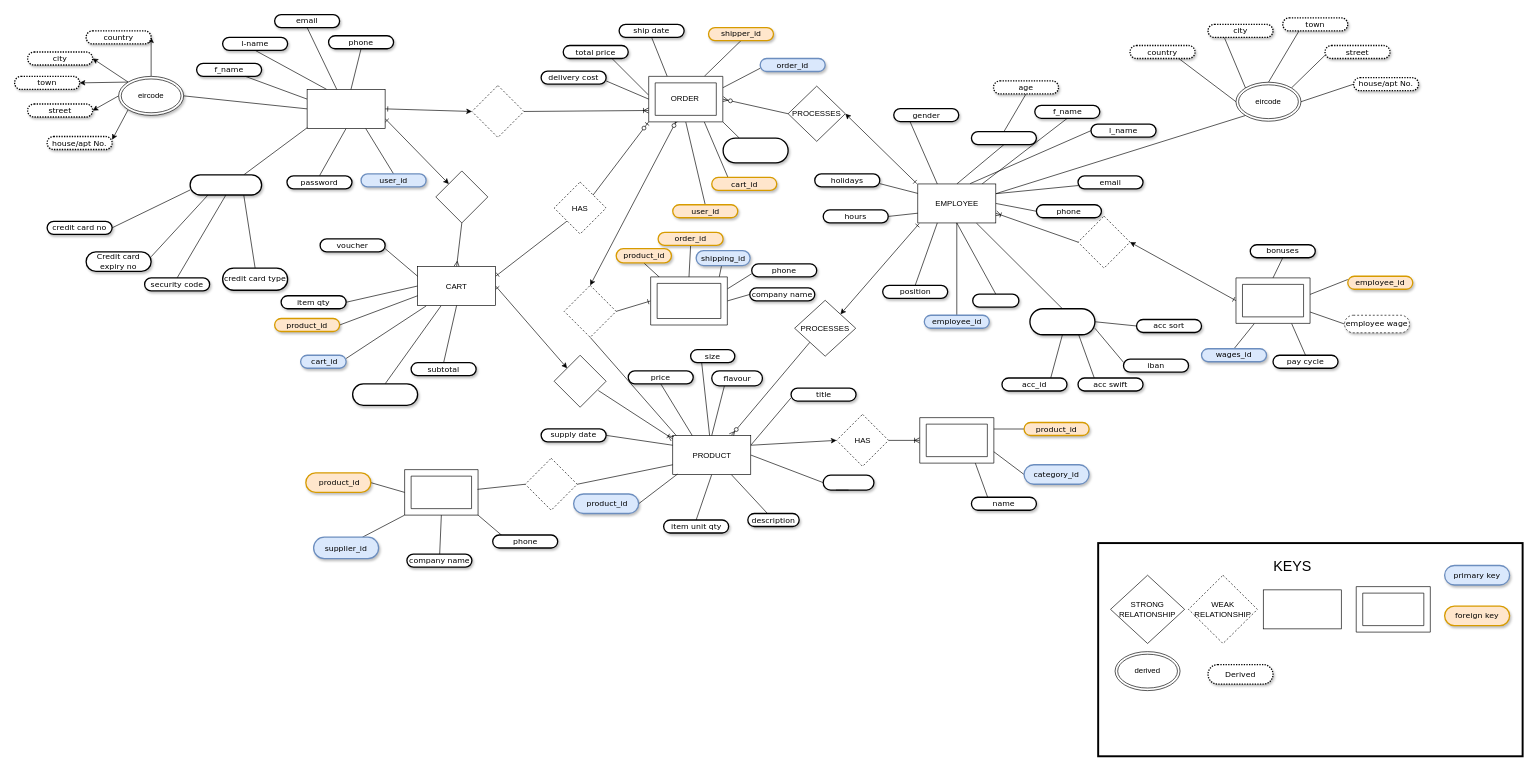
This 1535x768 diagram has some shape labels left out. The shapes that lost their labels are listed below. From the top down, each one's centre as x and y in pixels, then its label:
At (345,108): "Customer".
At (497,111): "Makes".
At (756,151): "order creation date".
At (1004,139): "dob".
At (226,185): "payment details".
At (461,196): "FILLS".
At (1103,241): "PAID TO".
At (590,311): "SHIPPED BY".
At (688,300): "SHIPPING COMPANY".
At (996,301): "salary".
At (1272,300): "WAGES".
At (1062,322): "bank account details".
At (385,395): "cart creation date".
At (579,381): "CONTAINS".
At (956,440): "CATEGORIES".
At (441,492): "SUPPLIER".
At (551,484): "SUPPLIED BY".
At (849,483): "images".
At (1302,609): "STRONG ENTITY".
At (1393,609): "WEAK ENTITY".
